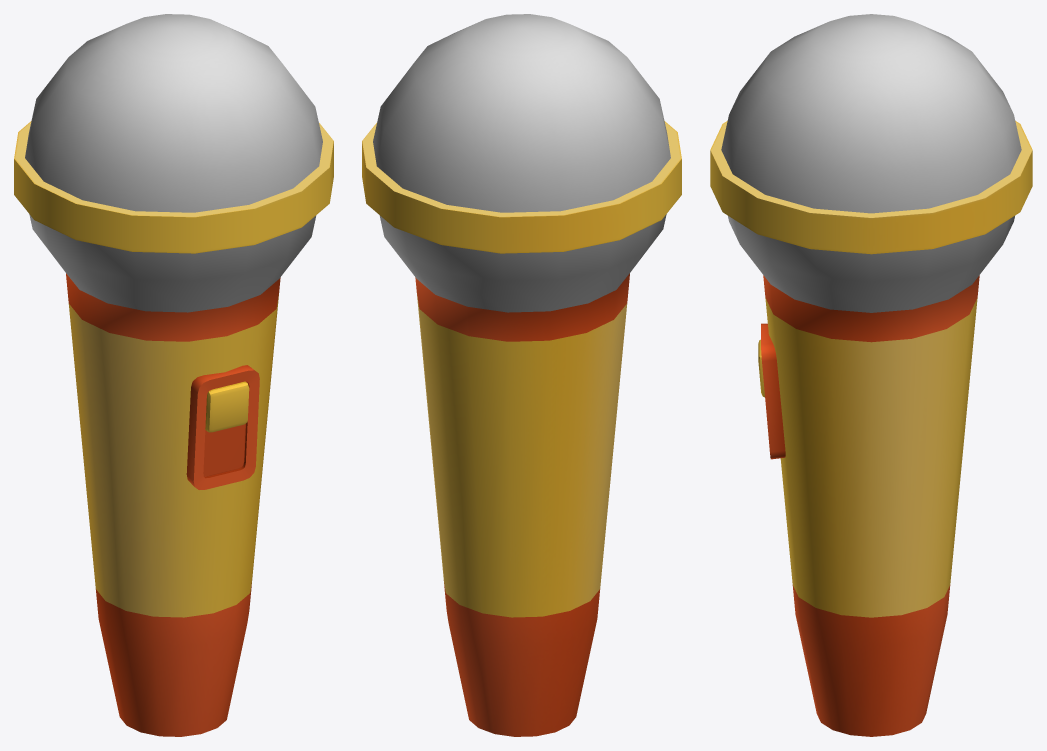
Rendered from ENV2010088.fbx.
3 renders of one model, left to right at view 1: azimuth 30°, elevation 25°; view 2: azimuth 150°, elevation 25°; view 3: azimuth 270°, elevation 25°, orthographic.
Visible parts, largest first — view 1: smENV2010088; view 2: smENV2010088; view 3: smENV2010088.
Part boxes in pixels (x1,y1,x2,y2): smENV2010088: (14, 14, 333, 736); smENV2010088: (362, 14, 681, 736); smENV2010088: (710, 14, 1032, 736).
Size of the model in its own units: 5.71 by 13.4 by 5.71.
Materials: 1 (1 with a texture image).
